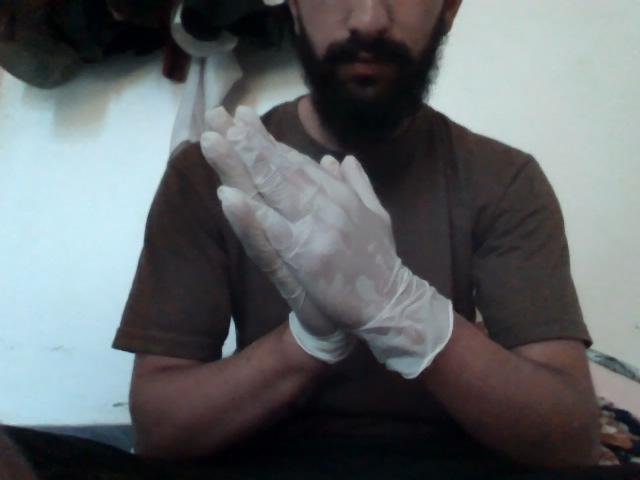gloves: (181, 97, 481, 363)
